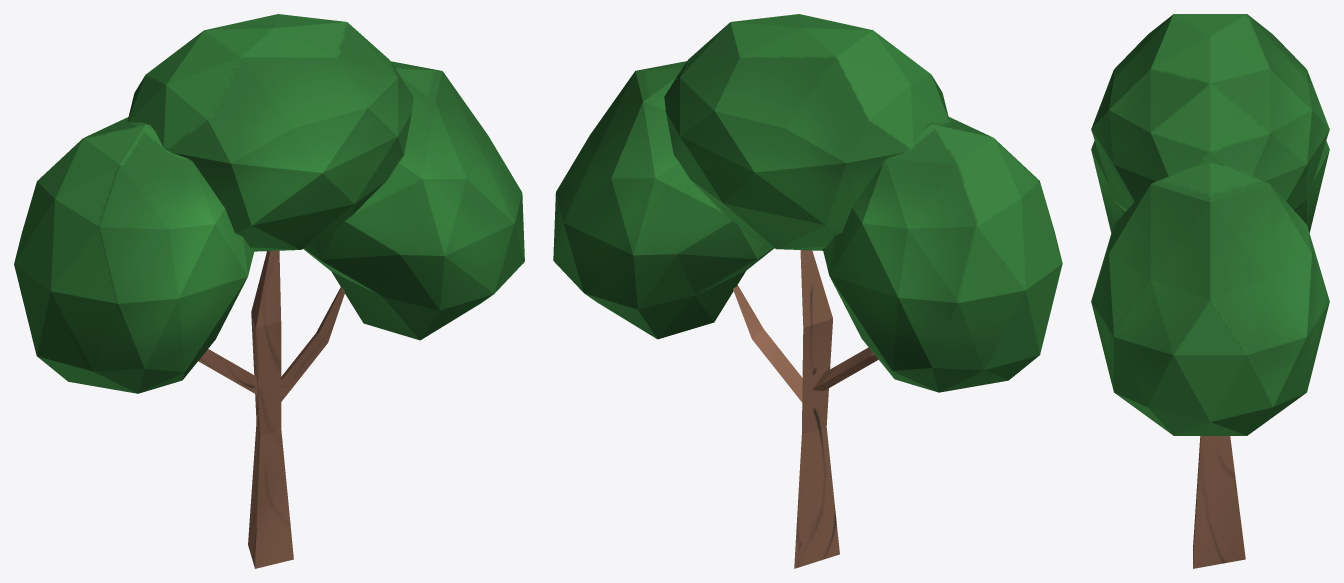
Rendered from tree.glb.
3 renders of one model, left to right at view 1: azimuth 30°, elevation 25°; view 2: azimuth 150°, elevation 25°; view 3: azimuth 270°, elevation 25°, orthographic.
Parts seen in each view (by area): view 1: Tree; view 2: Tree; view 3: Tree.
Boxes of the visible parts, <box> form: Tree: <box>14,14,524,568</box>; Tree: <box>553,14,1062,568</box>; Tree: <box>1091,14,1329,568</box>.
Bounding box in the file's own units: 4.09 × 4.34 × 1.78.
1 material, 1 textured.
